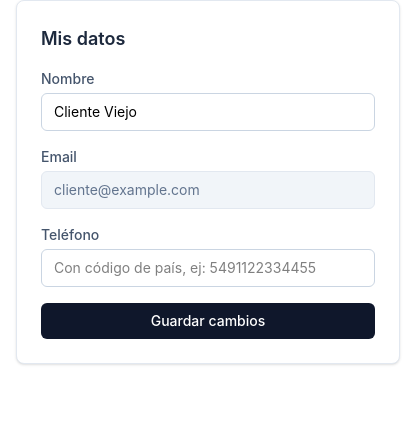
Profile › muestra un error si el teléfono no es válido
Expected: the field showing "Cliente Viejo" is shown, 41,93 -> 375,131
Type "123" into the field labelled "Teléfono".
click(208, 268); type("123")  # box 41,249 -> 375,287
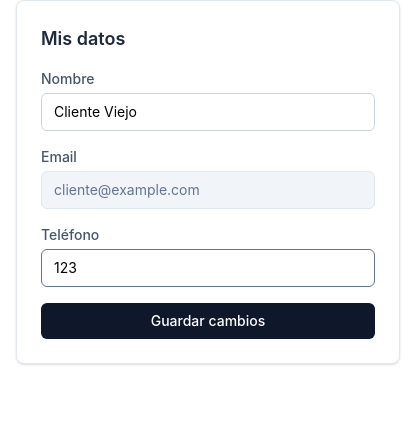
Click the button "Guardar cambios".
click(208, 321)  # box 41,303 -> 375,339
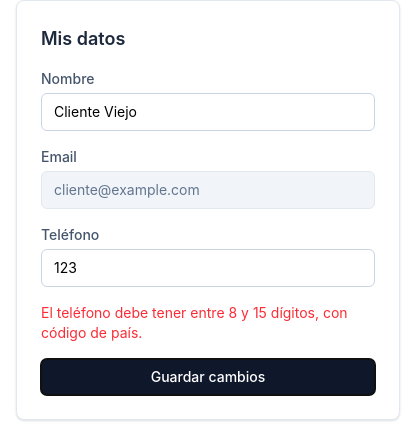
Expected: the text "teléfono debe tener entre 8 y 15 dígitos" is shown, 41,304 -> 348,341
